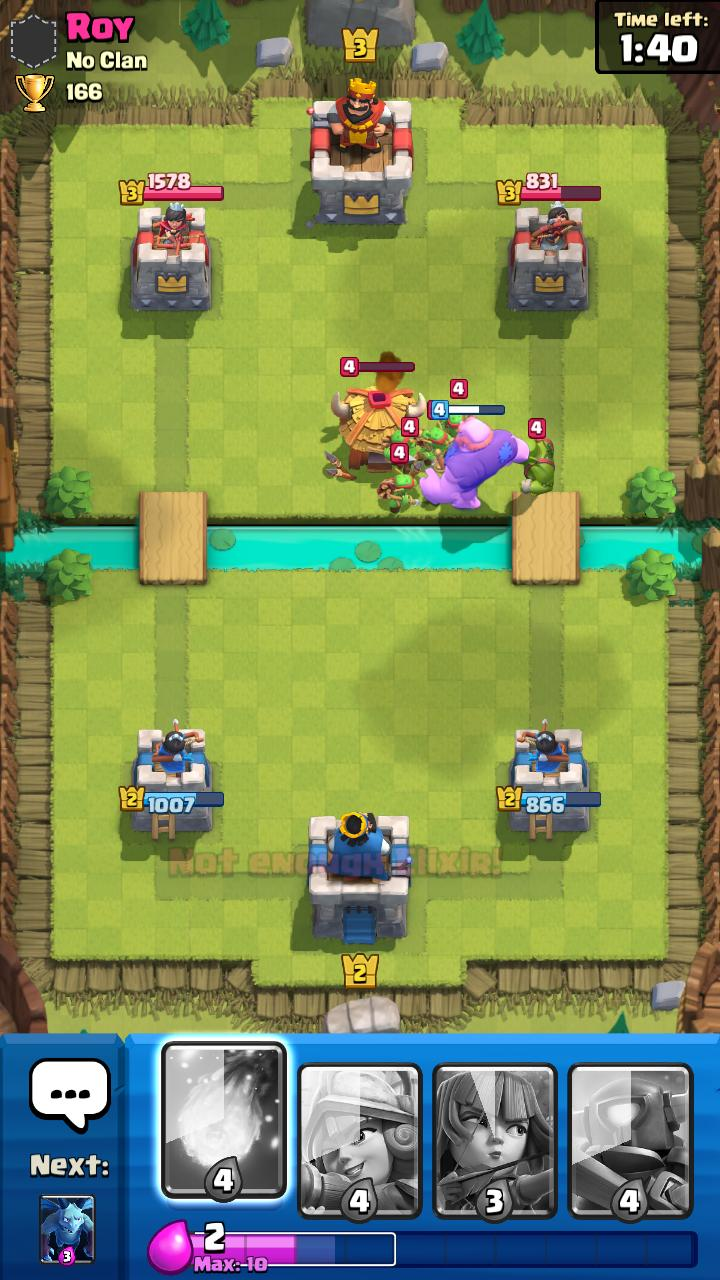ally: (420, 400, 530, 509)
enemy: (325, 357, 426, 481), (378, 443, 421, 515), (385, 417, 435, 474), (519, 418, 555, 497), (419, 400, 454, 466), (436, 379, 473, 436)
